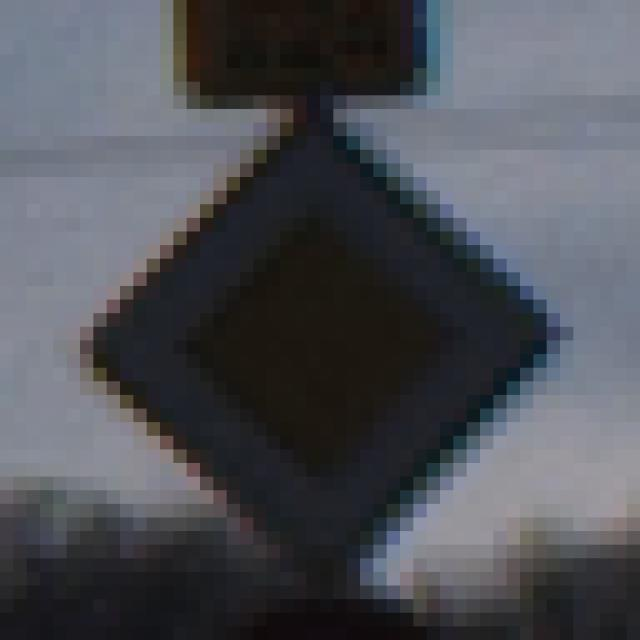Main Road: (68, 83, 574, 573)
